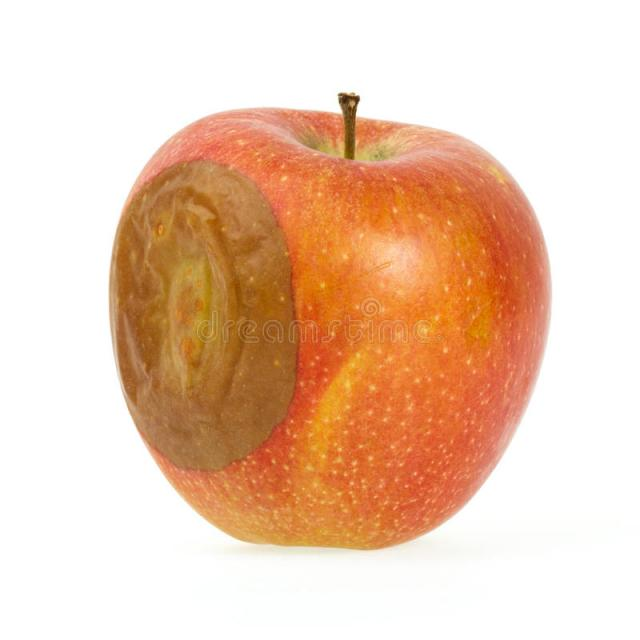Rotten: (111, 98, 554, 552)
